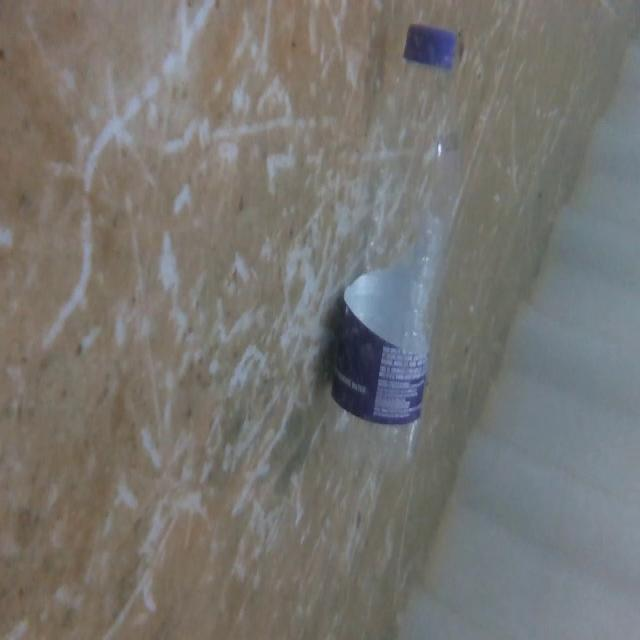plastic bottle: (341, 20, 466, 485)
